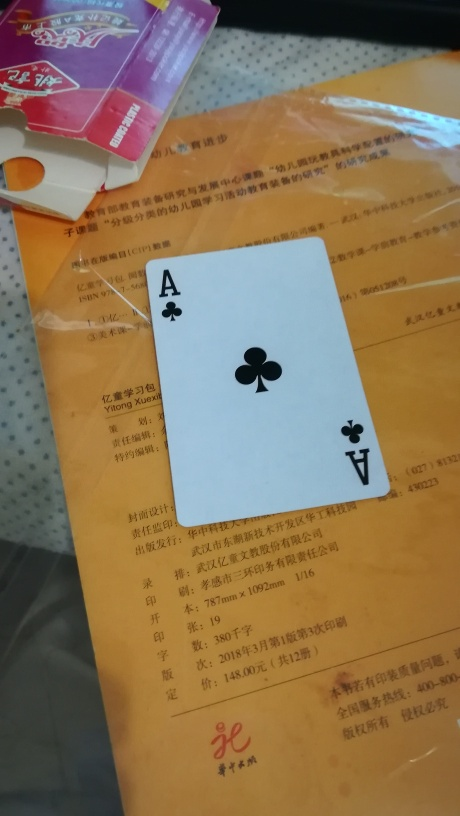mh a: (145, 236, 388, 526)
